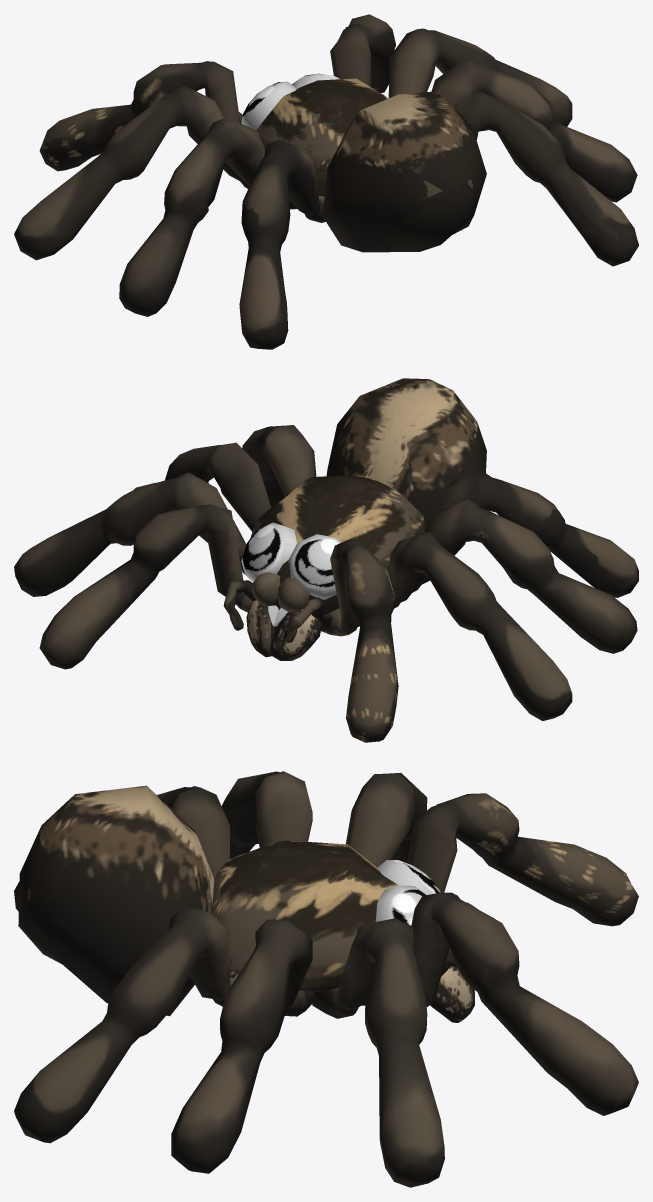
The model's file is MamaSpider2.fbx.
The picture shows the model from 3 angles, top to bottom: view 1: azimuth 30°, elevation 25°; view 2: azimuth 150°, elevation 25°; view 3: azimuth 270°, elevation 25°; orthographic projection. The views are drawn at different scales.
Parts seen in each view (by area): view 1: MamaSpi; view 2: MamaSpi; view 3: MamaSpi.
Part boxes in pixels (box(x1,y1,x2,y2)): MamaSpi: box(14, 14, 638, 349); MamaSpi: box(14, 378, 638, 742); MamaSpi: box(14, 771, 638, 1187).
Bounding box in the file's own units: 201 × 63.34 × 157.
